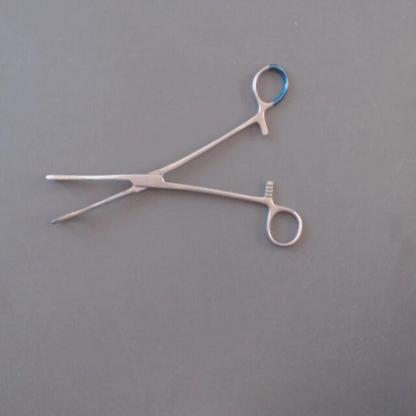Sponge Forceps: (39, 54, 309, 253)
